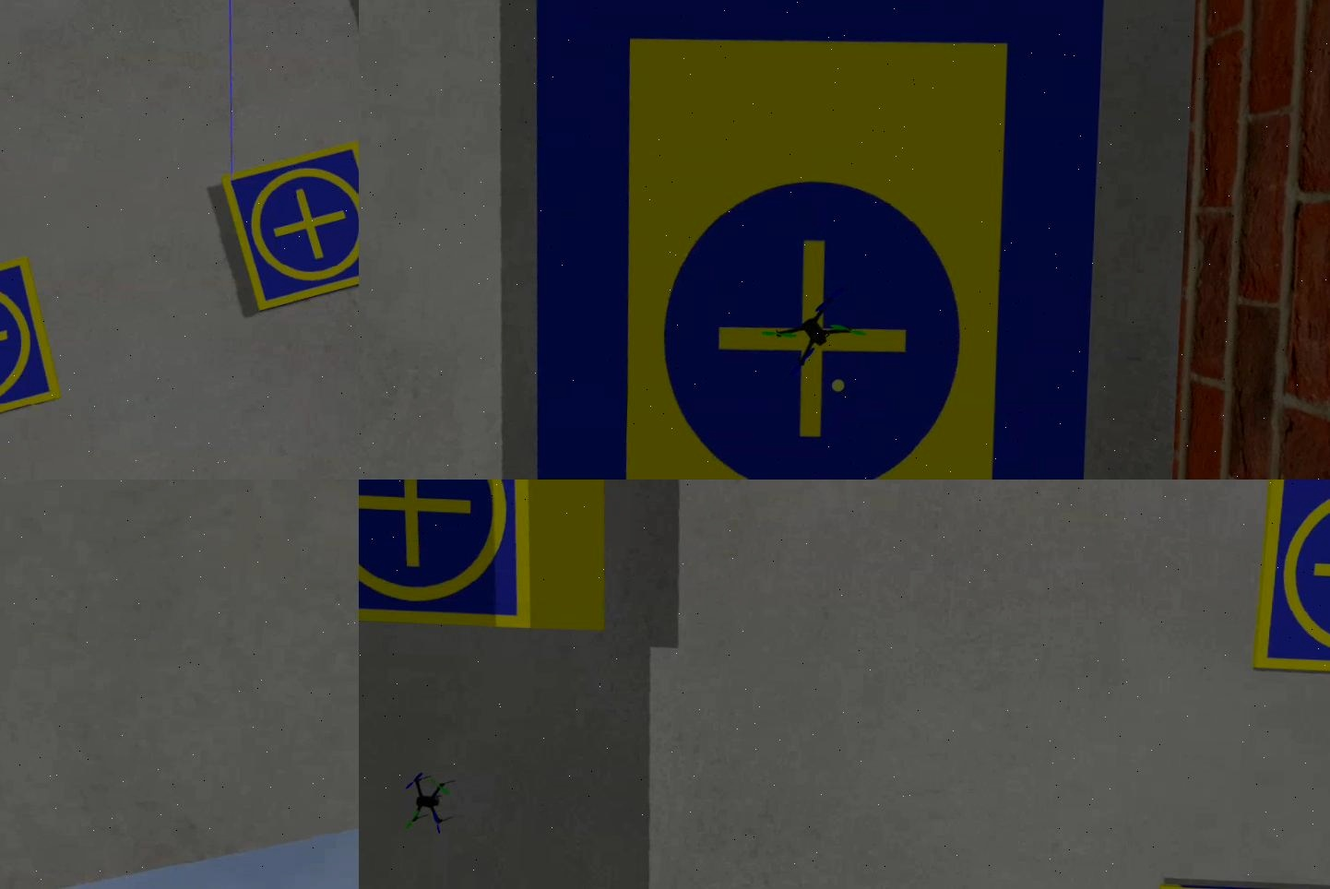large_base: (507, 1, 1109, 480)
small_base: (359, 480, 545, 632), (219, 139, 359, 314), (1252, 480, 1330, 683), (1, 255, 64, 443)
